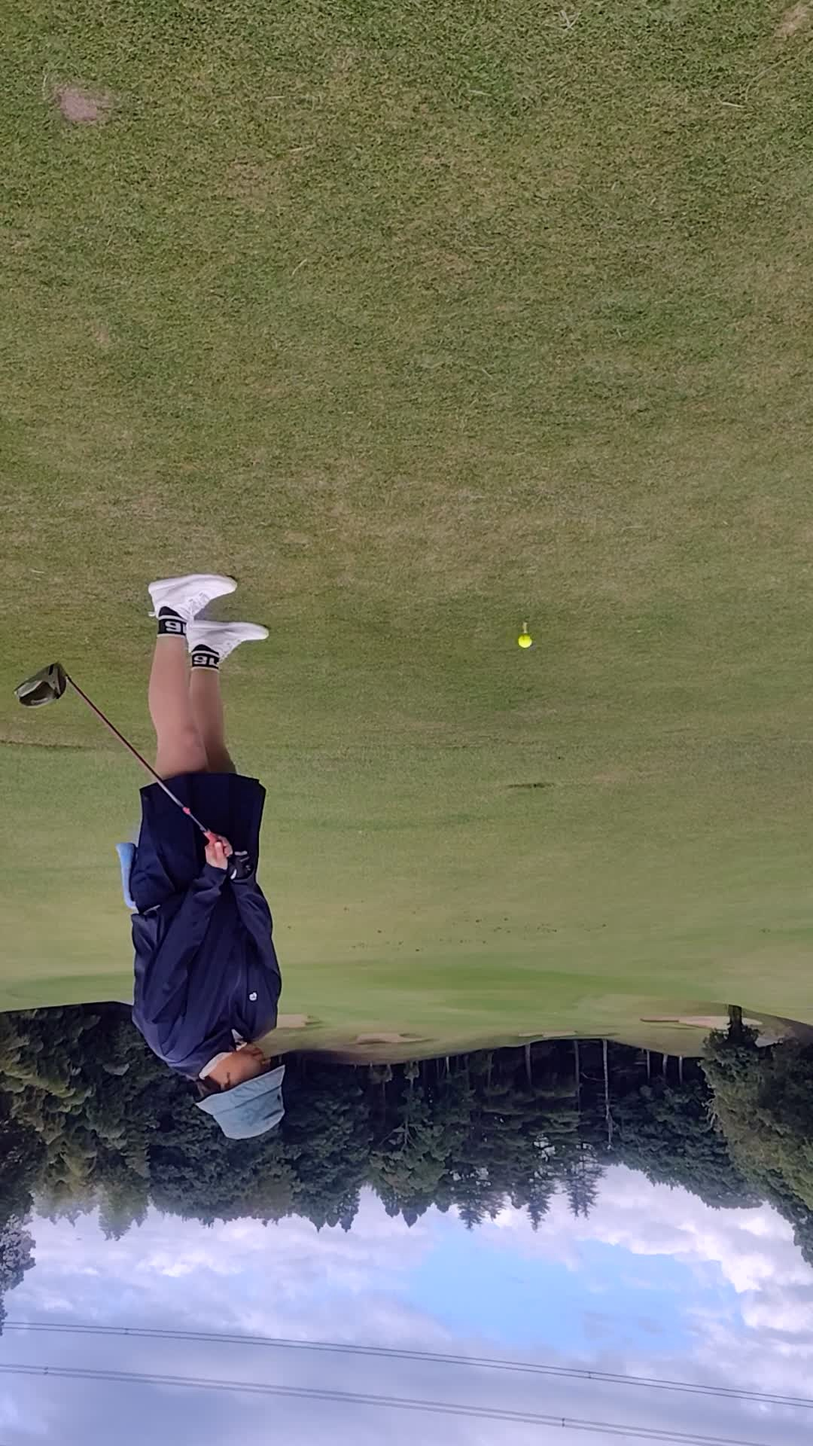clubhead: (0, 581, 194, 735)
